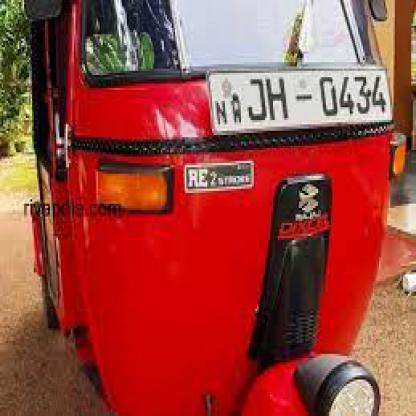tuk: (24, 0, 408, 414)
